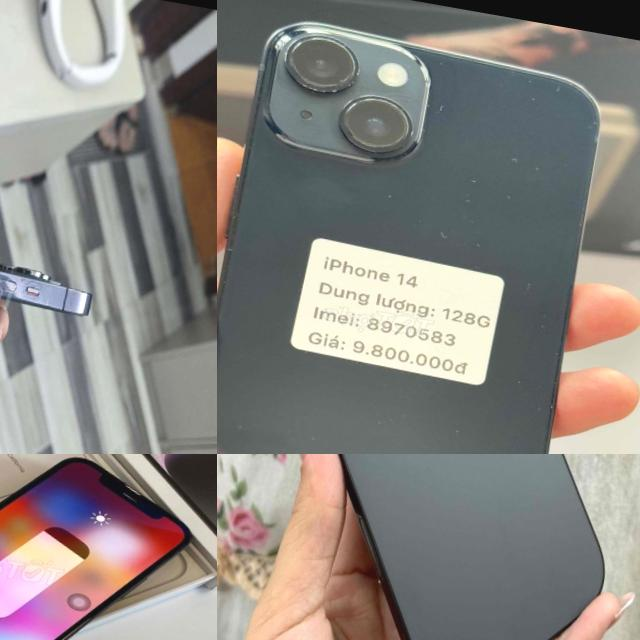scratch: (328, 88, 426, 192), (267, 21, 379, 102), (422, 228, 492, 254), (580, 115, 618, 160), (453, 169, 486, 217), (504, 150, 549, 180), (512, 274, 542, 312), (445, 419, 477, 454), (548, 82, 572, 106), (435, 96, 453, 125), (502, 186, 524, 206), (528, 98, 548, 120), (42, 281, 54, 315), (472, 449, 491, 454)
